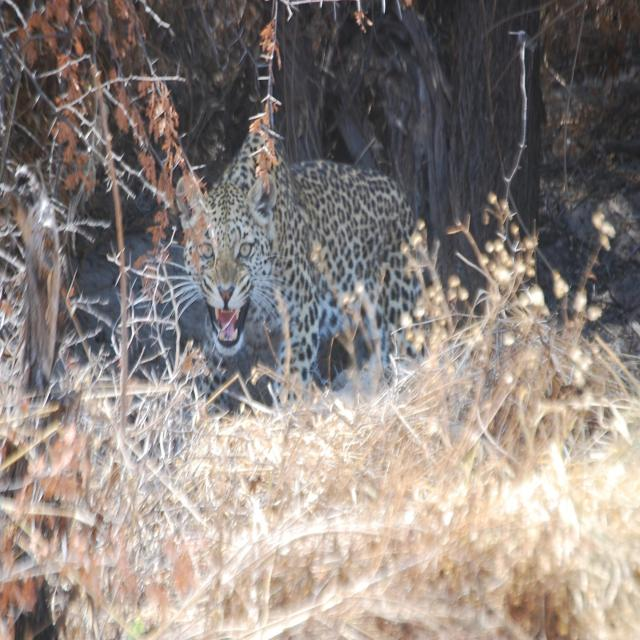Leopard: (173, 132, 433, 406)
